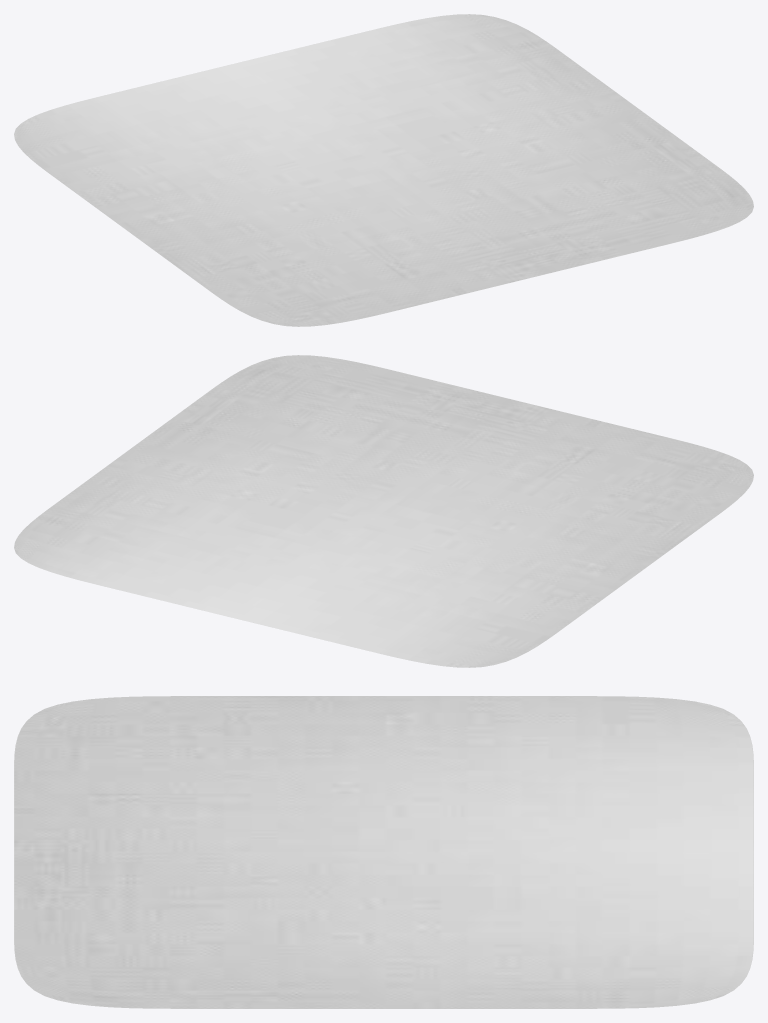
3 renders of one model, top to bottom at view 1: azimuth 30°, elevation 25°; view 2: azimuth 150°, elevation 25°; view 3: azimuth 270°, elevation 25°, orthographic. The views are drawn at different scales.
Visible parts, largest first — view 1: White; view 2: White; view 3: White.
Part boxes in pixels (box(x1,y1,x2,y2)): White: box(14, 14, 753, 326); White: box(14, 355, 753, 667); White: box(14, 696, 753, 1008).
Size of the model in its own units: 200 by 0.000182 by 200.
Materials: 1 (1 with a texture image).
